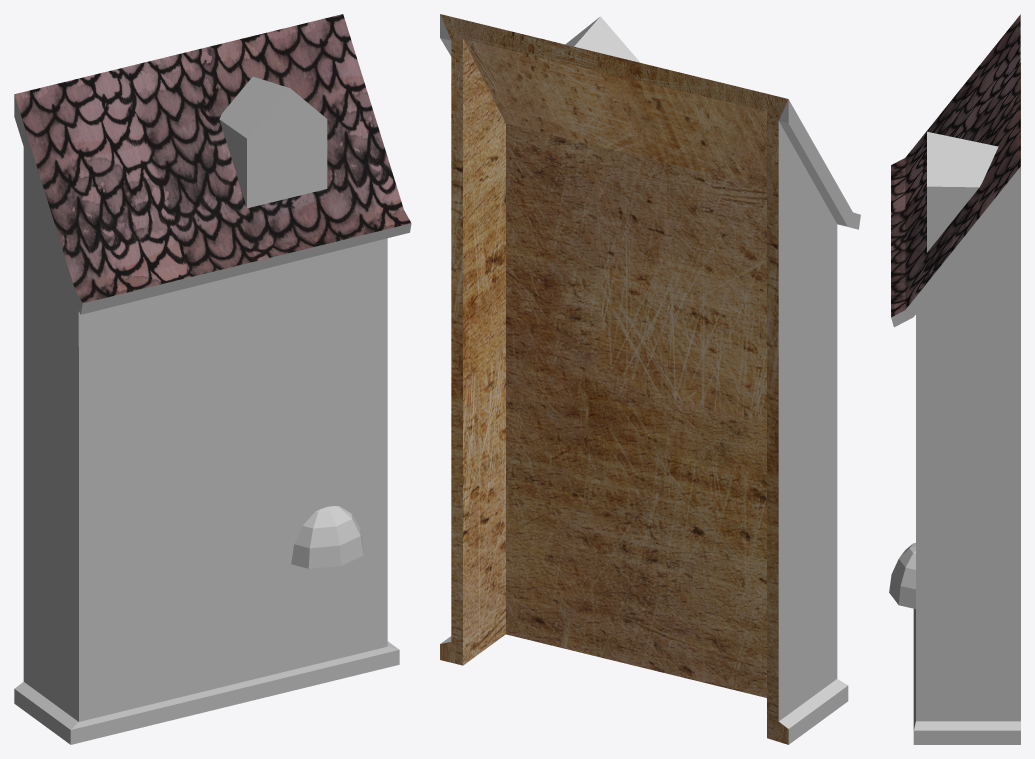
Rendered from House11.fbx.
3 renders of one model, left to right at view 1: azimuth 30°, elevation 25°; view 2: azimuth 150°, elevation 25°; view 3: azimuth 270°, elevation 25°, orthographic. The views are drawn at different scales.
Visible parts, largest first — view 1: House11; view 2: House11; view 3: House11.
Boxes of the visible parts, x1,y1,x2,y2 form: House11: (14, 14, 411, 744); House11: (440, 14, 860, 744); House11: (889, 14, 1020, 744).
Size of the model in its own units: 10 by 17.71 by 3.66.
